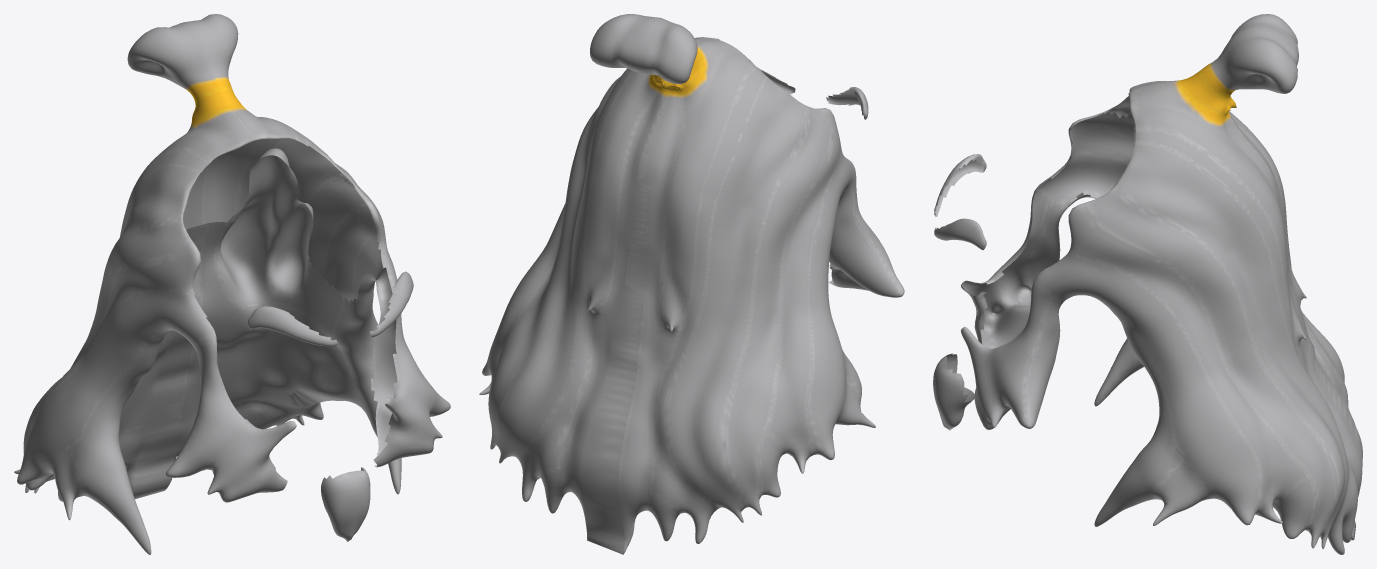
Rendered from mh_culturalibre_hair_11.glb.
3 renders of one model, left to right at view 1: azimuth 30°, elevation 25°; view 2: azimuth 150°, elevation 25°; view 3: azimuth 270°, elevation 25°, orthographic. The views are drawn at different scales.
Visible parts, largest first — view 1: mh_culturalibre_hair_11; view 2: mh_culturalibre_hair_11; view 3: mh_culturalibre_hair_11.
Part boxes in pixels (bbox=[...]): mh_culturalibre_hair_11: bbox=[14, 14, 450, 554]; mh_culturalibre_hair_11: bbox=[479, 14, 904, 554]; mh_culturalibre_hair_11: bbox=[933, 14, 1362, 554].
Size of the model in its own units: 0.2847 by 0.384 by 0.2949.
1 material, 1 textured.
